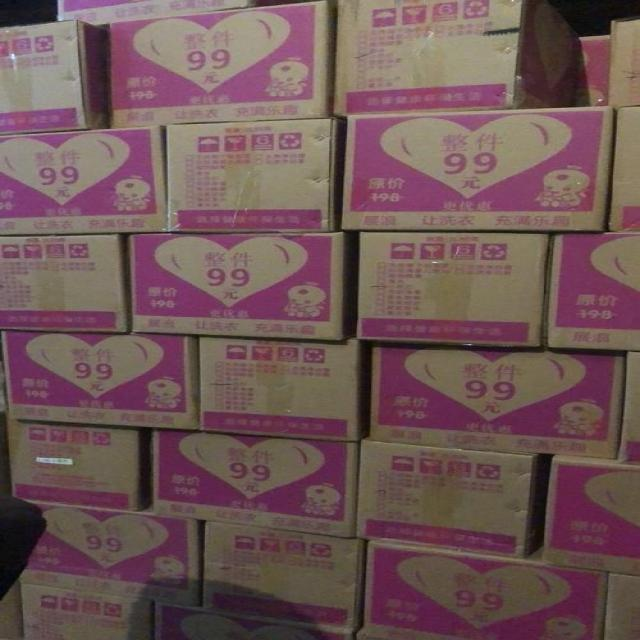Carton: (193, 335, 613, 554), (0, 2, 332, 235), (196, 522, 599, 639), (342, 107, 613, 228), (356, 233, 541, 346), (132, 235, 343, 333), (157, 428, 346, 531), (4, 328, 183, 425), (1, 233, 122, 330)
